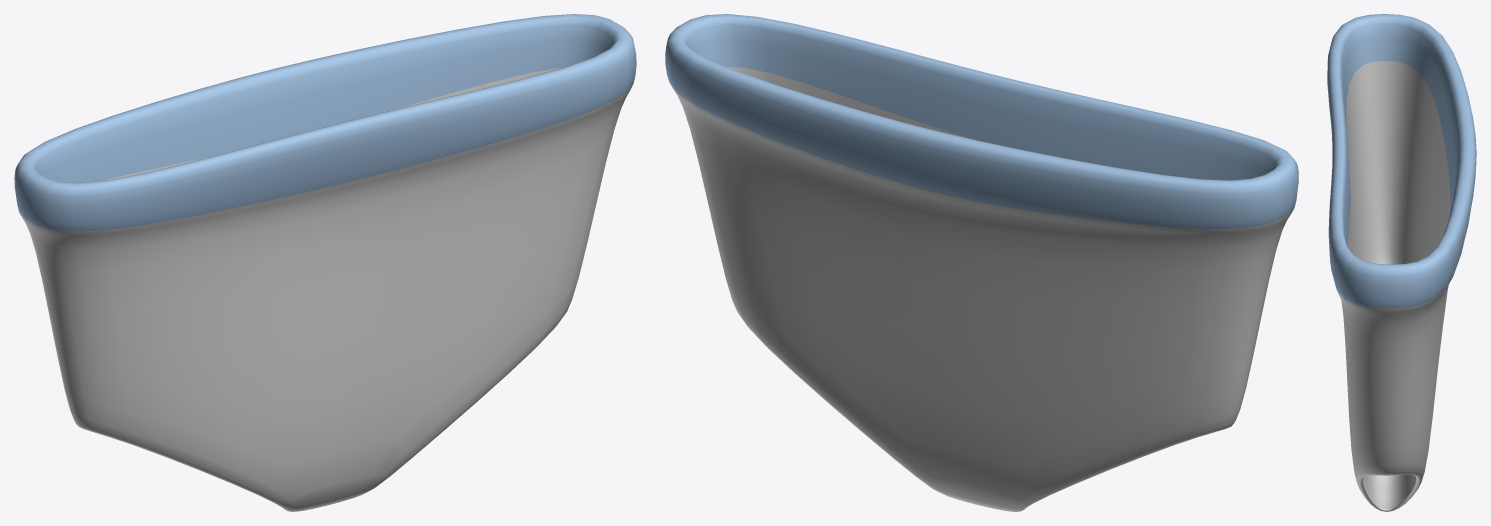
The model's file is diaper.fbx.
3 views of the same model, side by side, from view 1: azimuth 30°, elevation 25°; view 2: azimuth 150°, elevation 25°; view 3: azimuth 270°, elevation 25° (orthographic). The views are drawn at different scales.
Visible parts, largest first — view 1: Cube; view 2: Cube; view 3: Cube.
Boxes of the visible parts, <box> form: Cube: <box>14,14,636,511</box>; Cube: <box>665,14,1298,511</box>; Cube: <box>1327,14,1476,511</box>.
Bounding box in the file's own units: 39.52 × 25.18 × 9.49.
